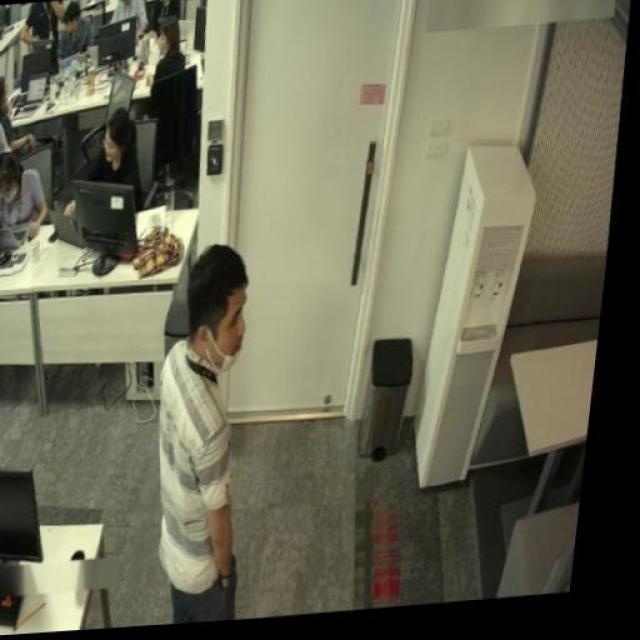hairnet: (212, 284, 260, 378)
